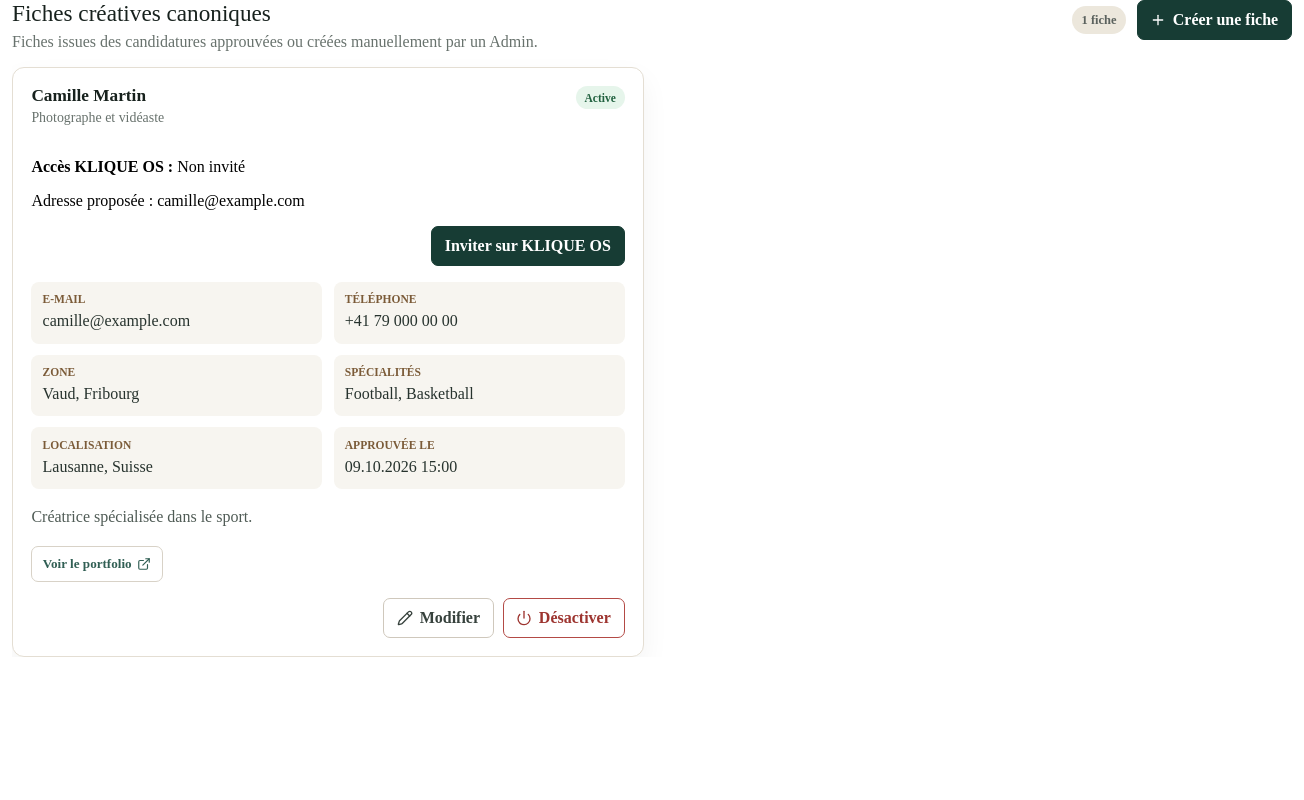
Test: Creative profiles Admin UI › shows canonical profile data without exposing editable provenance or audit controls
The width and height of the screenshot is (1304, 800).
Click the button "Modifier".
click(439, 618)  # box [384,598,494,638]
(page scrolled)
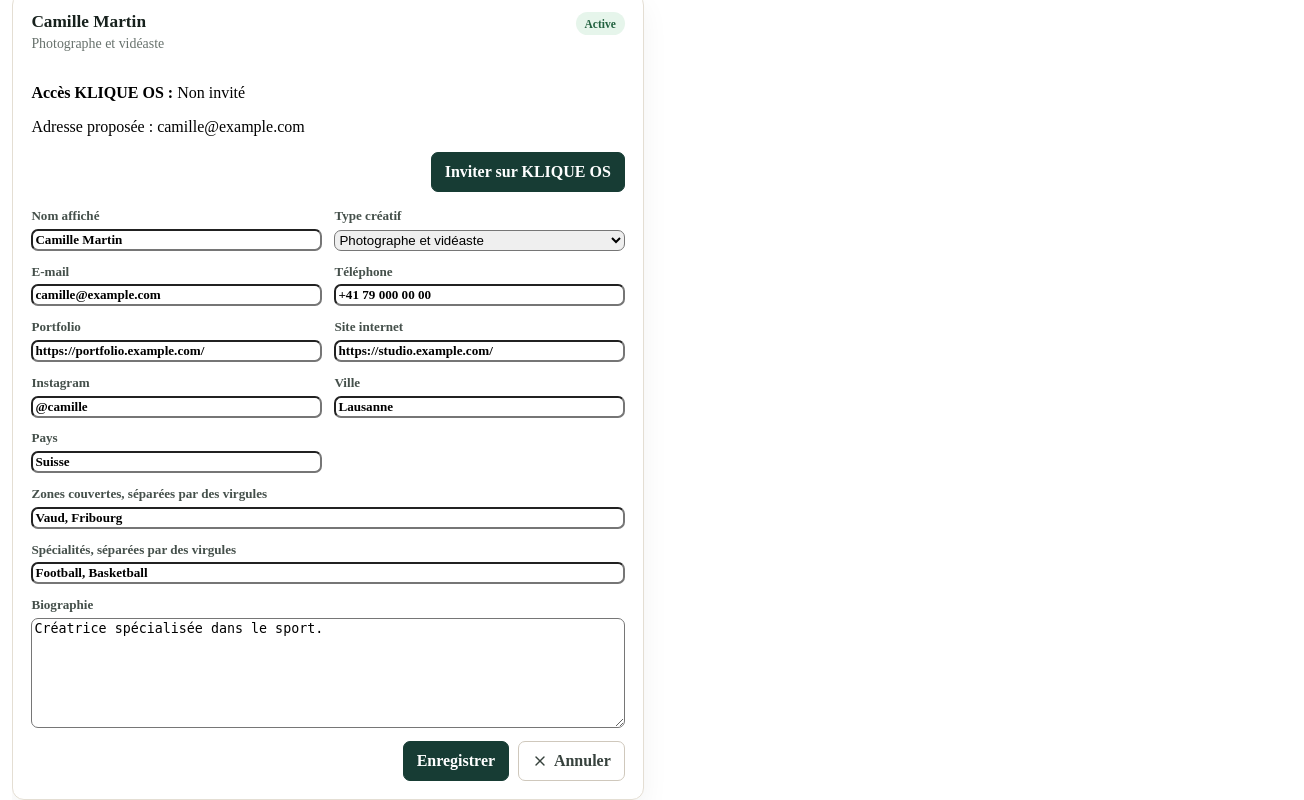
Expected: the form is shown, [31,208,625,781]
